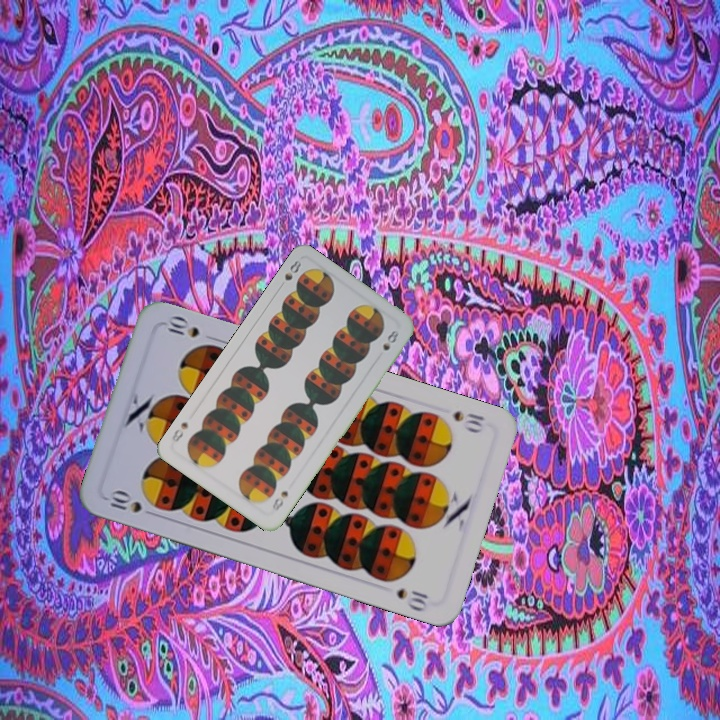S10: (102, 487, 145, 516), (448, 406, 488, 436)
S8: (274, 256, 304, 292), (268, 486, 291, 514)
